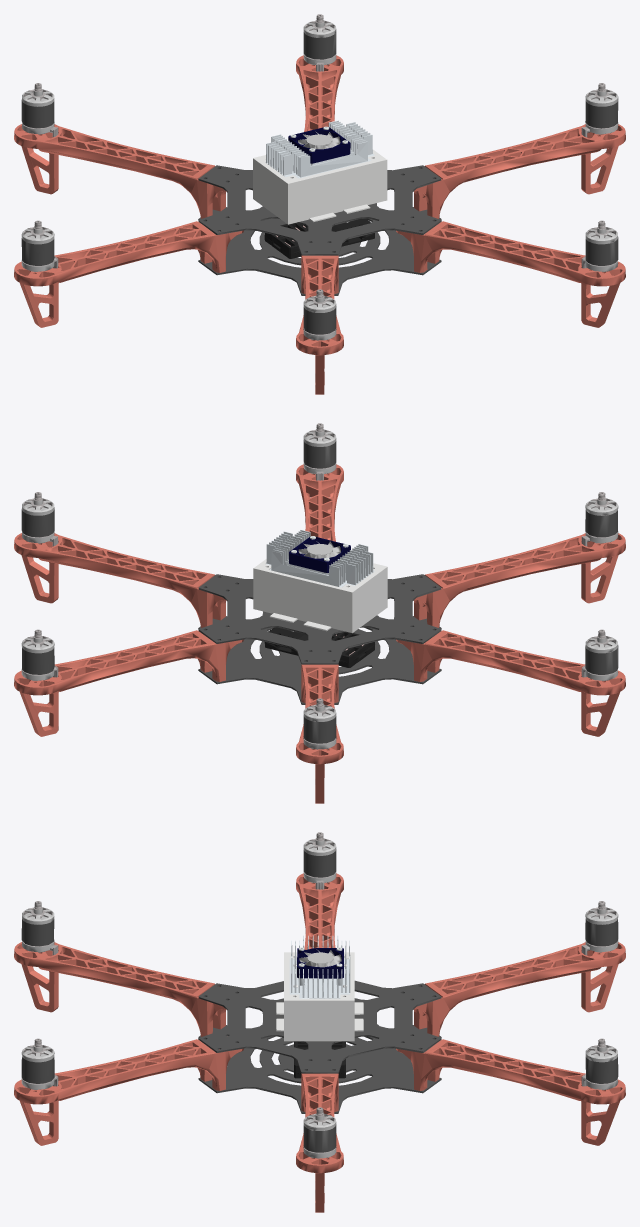
The model's file is f550_frame_board.dae.
The picture shows the model from 3 angles, top to bottom: view 1: azimuth 30°, elevation 25°; view 2: azimuth 150°, elevation 25°; view 3: azimuth 270°, elevation 25°; orthographic projection.
Parts seen in each view (by area): view 1: frame_f550_torsiona; view 2: frame_f550_torsiona; view 3: frame_f550_torsiona.
Part boxes in pixels (left/top/right/bottom): frame_f550_torsiona: left=14, top=14, right=625, bottom=394; frame_f550_torsiona: left=14, top=423, right=625, bottom=803; frame_f550_torsiona: left=14, top=832, right=625, bottom=1212.
Size of the model in its own units: 0.591 by 0.5173 by 0.1112.
